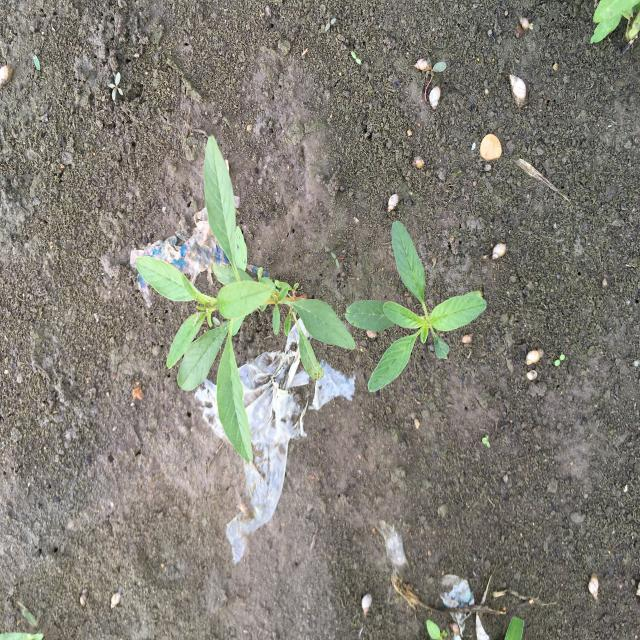Waterhemp: (133, 133, 356, 465), (344, 220, 488, 393)
